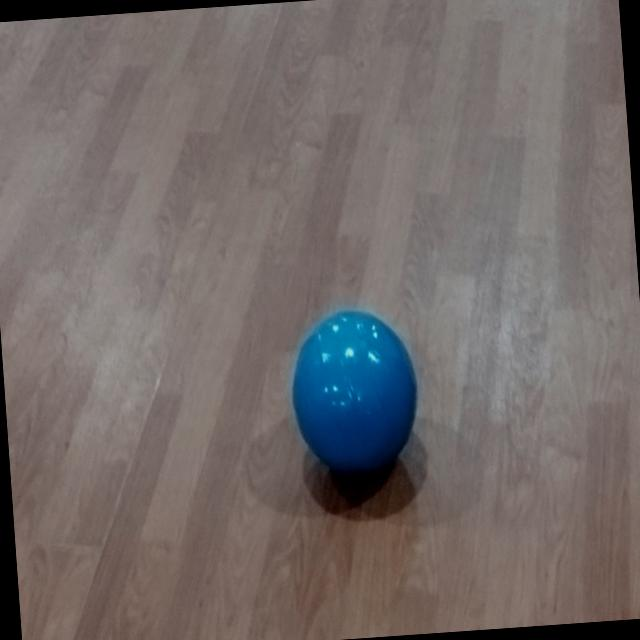blue_ball: (286, 305, 424, 482)
